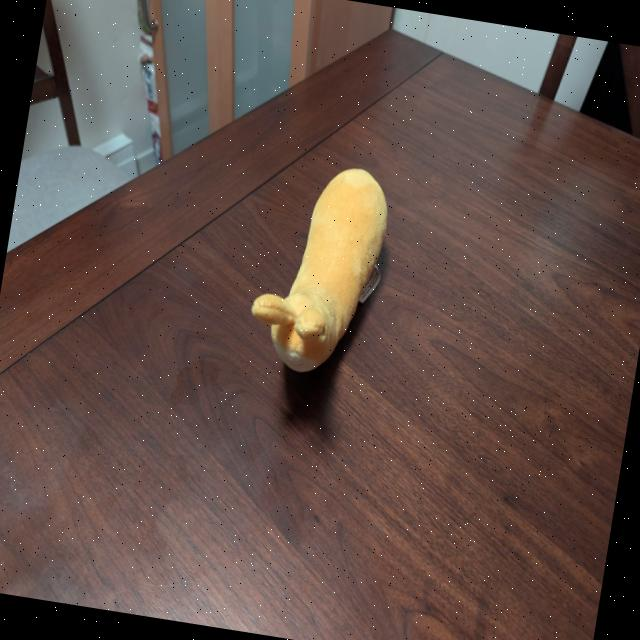banana-slug-toy: (235, 150, 414, 395)
